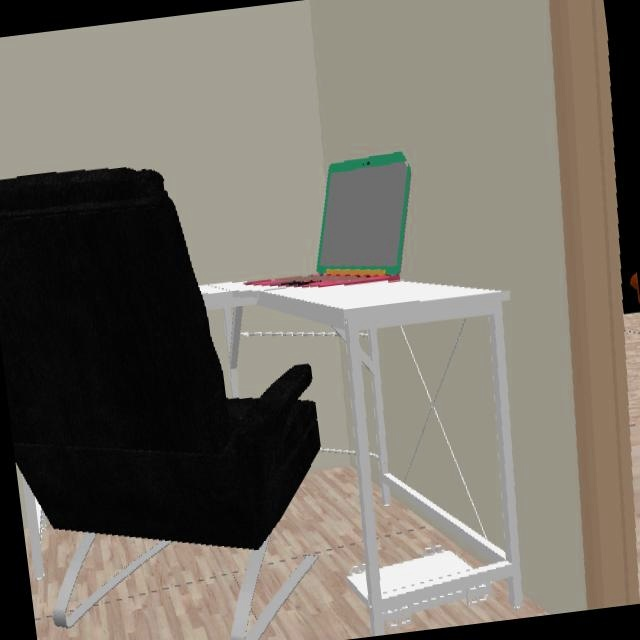chair: (0, 168, 318, 552)
laptop: (308, 151, 414, 287)
table: (201, 280, 516, 621)
